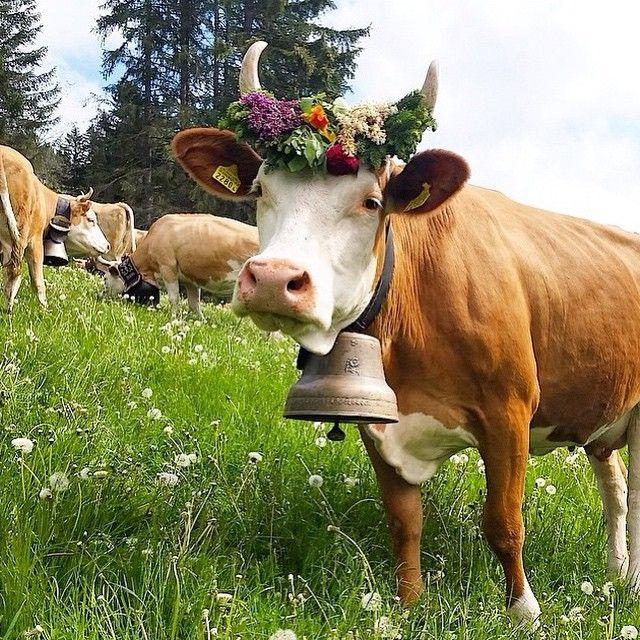cow: (226, 44, 456, 344), (57, 185, 115, 264), (103, 243, 135, 297)
